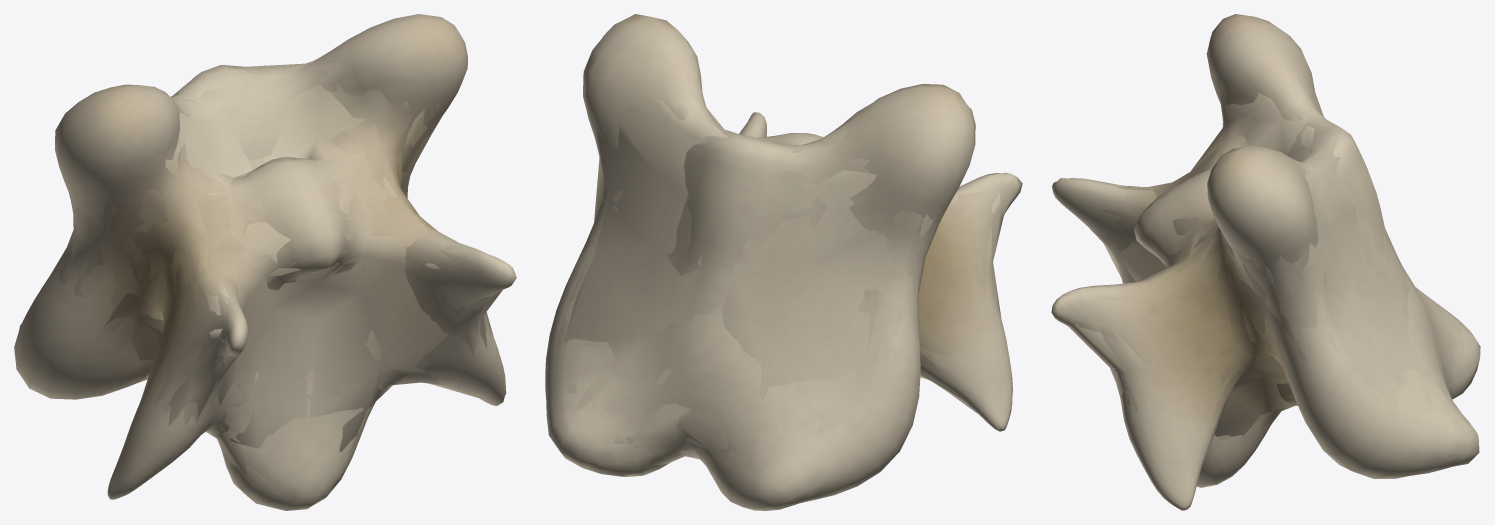
The model's file is vertebra cervicalis 3.fbx.
3 views of the same model, side by side, from view 1: azimuth 30°, elevation 25°; view 2: azimuth 150°, elevation 25°; view 3: azimuth 270°, elevation 25° (orthographic). The views are drawn at different scales.
Parts seen in each view (by area): view 1: vertebra cervicalis 3 high, vertebra cervicalis 3 low, vertebra cervicalis 3; view 2: vertebra cervicalis 3 high, vertebra cervicalis 3 low, vertebra cervicalis 3; view 3: vertebra cervicalis 3 high, vertebra cervicalis 3 low, vertebra cervicalis 3.
Boxes of the visible parts, bbox=[...] form: vertebra cervicalis 3 high: bbox=[14, 14, 516, 510]; vertebra cervicalis 3 low: bbox=[69, 55, 502, 452]; vertebra cervicalis 3: bbox=[51, 52, 499, 485]; vertebra cervicalis 3 high: bbox=[545, 14, 1022, 510]; vertebra cervicalis 3 low: bbox=[564, 92, 1007, 467]; vertebra cervicalis 3: bbox=[555, 79, 1010, 498]; vertebra cervicalis 3 high: bbox=[1051, 14, 1480, 510]; vertebra cervicalis 3 low: bbox=[1067, 89, 1452, 436]; vertebra cervicalis 3: bbox=[1067, 77, 1465, 477].
Size of the model in its own units: 5.88 by 6.21 by 6.12.
1 material, 1 textured.
